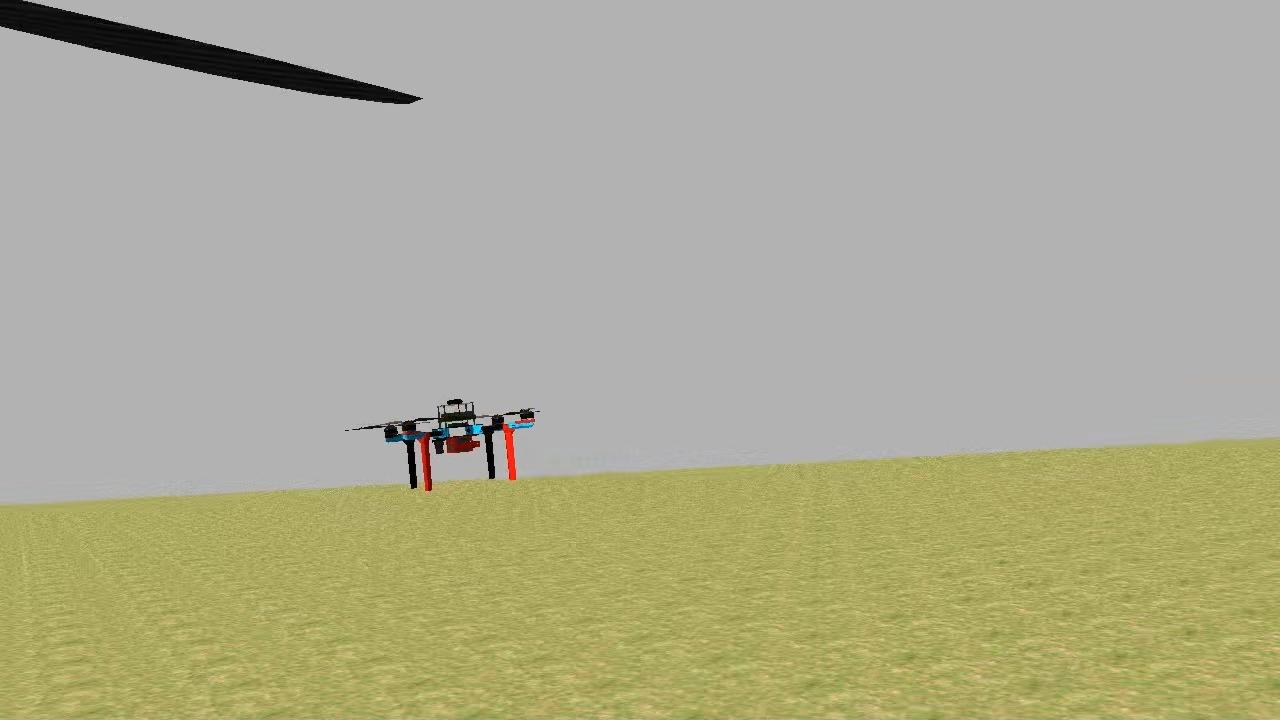UAV: (380, 392, 544, 492)
